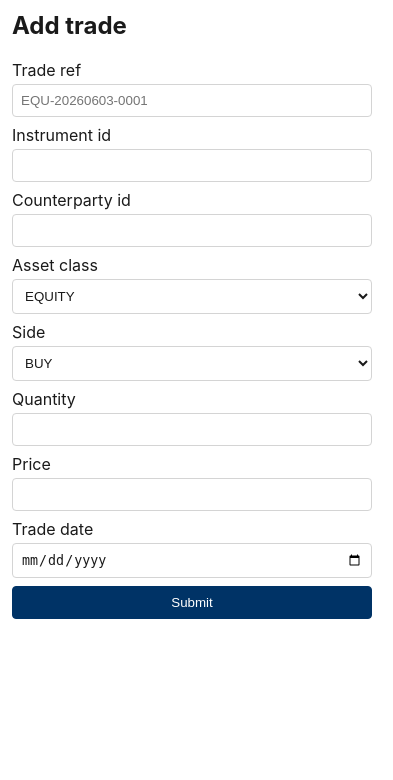
Test: <AddTrade> › shows validation errors when submitting empty form
Click the button "Submit": {"x": 192, "y": 603} [12,586,372,619]
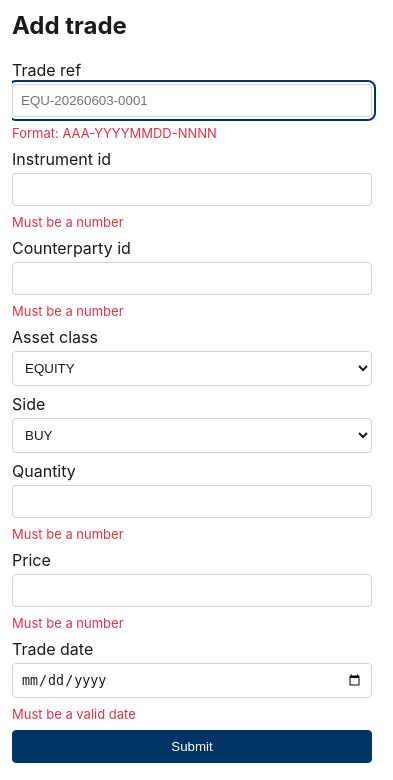
Check: the message "Format: AAA-YYYYMMDD-NNNN" is shown, box [12,125,217,141]
